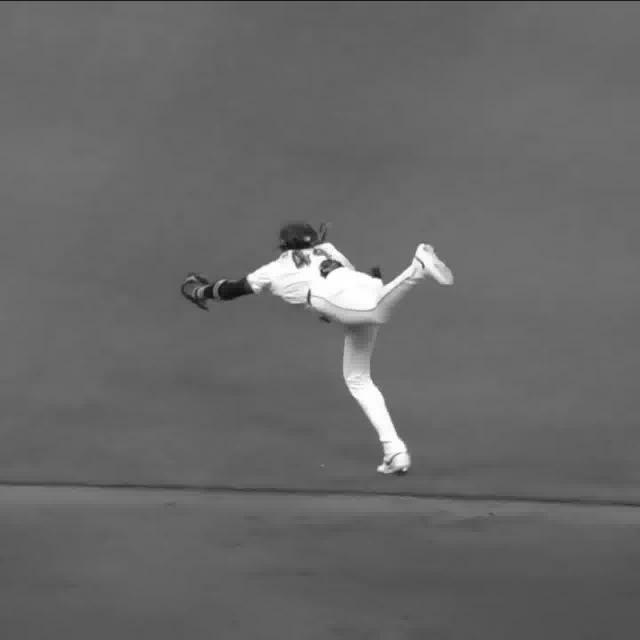baseball_glove: (179, 272, 210, 312)
shoe: (413, 244, 463, 287), (377, 453, 416, 477)
